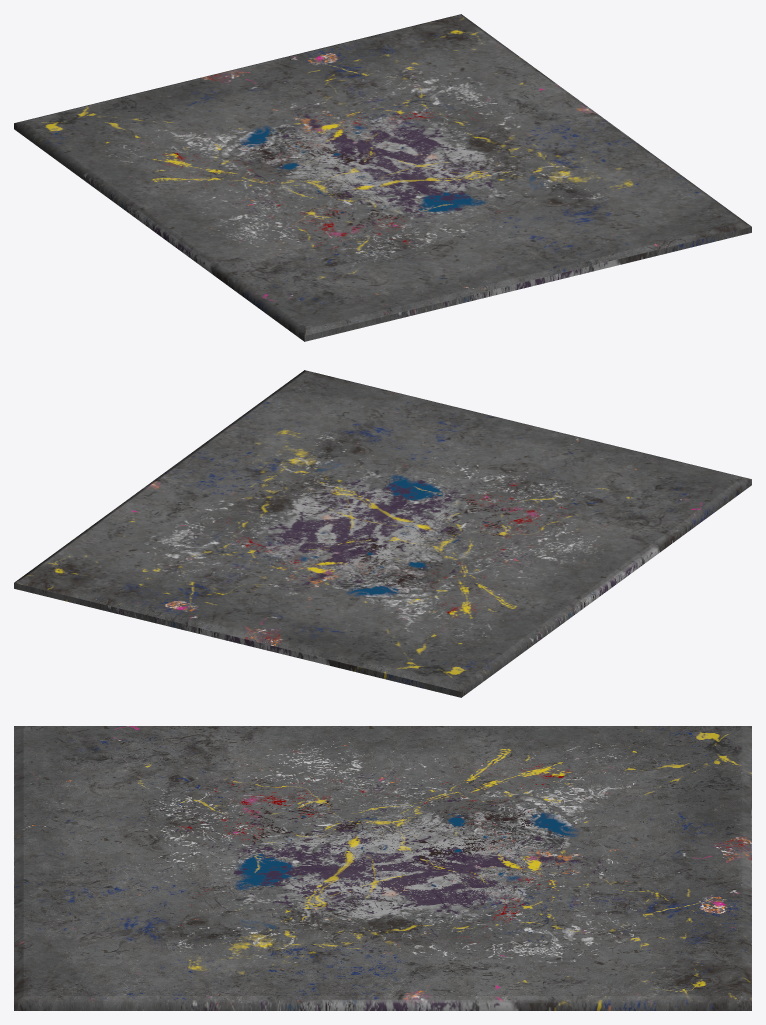
File: studioFloor.fbx
The picture shows the model from 3 angles, top to bottom: view 1: azimuth 30°, elevation 25°; view 2: azimuth 150°, elevation 25°; view 3: azimuth 270°, elevation 25°; orthographic projection. The views are drawn at different scales.
Parts seen in each view (by area): view 1: pCube2; view 2: pCube2; view 3: pCube2.
Part boxes in pixels (box(x1,y1,x2,y2)): pCube2: box(14, 14, 751, 341); pCube2: box(14, 370, 751, 697); pCube2: box(14, 726, 751, 1010).
Size of the model in its own units: 800 by 15.09 by 900.
1 material, 1 textured.
